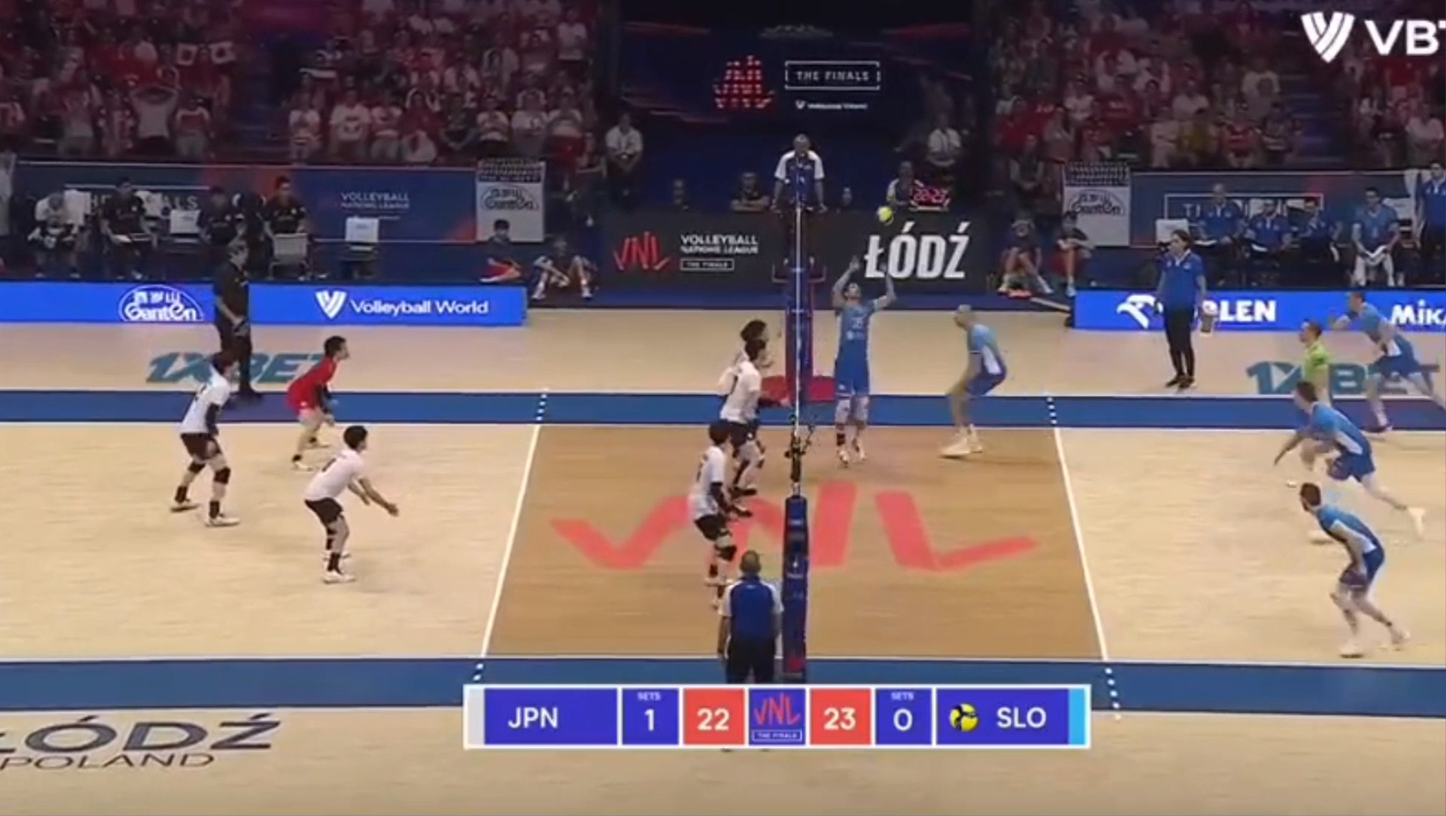ball: (876, 205, 894, 225)
player: (1274, 382, 1423, 533), (1297, 482, 1407, 657), (1334, 291, 1445, 433), (831, 258, 895, 466), (941, 305, 1007, 458), (1299, 320, 1330, 401)
player 1: (303, 425, 399, 582), (687, 419, 747, 605), (172, 352, 236, 526), (714, 336, 765, 499), (286, 335, 348, 467), (740, 319, 774, 372), (731, 348, 746, 364)
referee: (717, 550, 782, 683), (1155, 229, 1206, 391), (772, 134, 825, 285), (212, 242, 261, 400)
